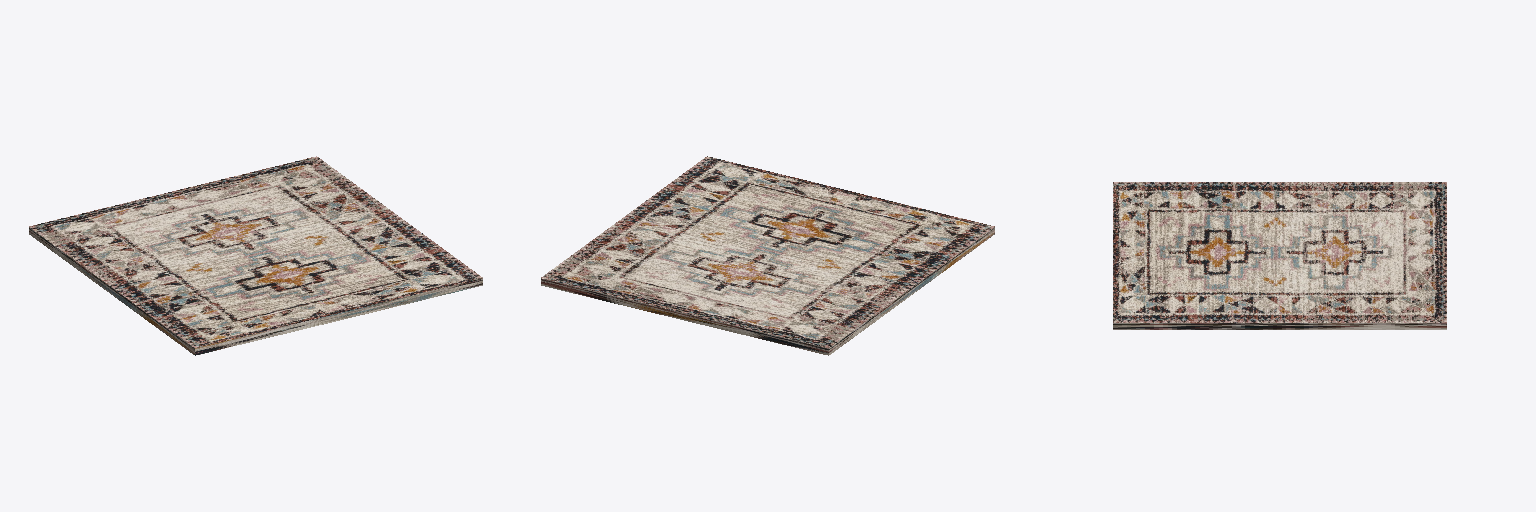
3 renders of one model, left to right at view 1: azimuth 30°, elevation 25°; view 2: azimuth 150°, elevation 25°; view 3: azimuth 270°, elevation 25°, orthographic.
Visible parts, largest first — view 1: Cube.006_Cube.005; view 2: Cube.006_Cube.005; view 3: Cube.006_Cube.005.
Boxes of the visible parts, x1,y1,x2,y2 form: Cube.006_Cube.005: [29, 156, 482, 355]; Cube.006_Cube.005: [541, 156, 994, 355]; Cube.006_Cube.005: [1113, 182, 1446, 329].
Size of the model in its own units: 11.55 by 0.2848 by 11.55.
Materials: 1 (1 with a texture image).